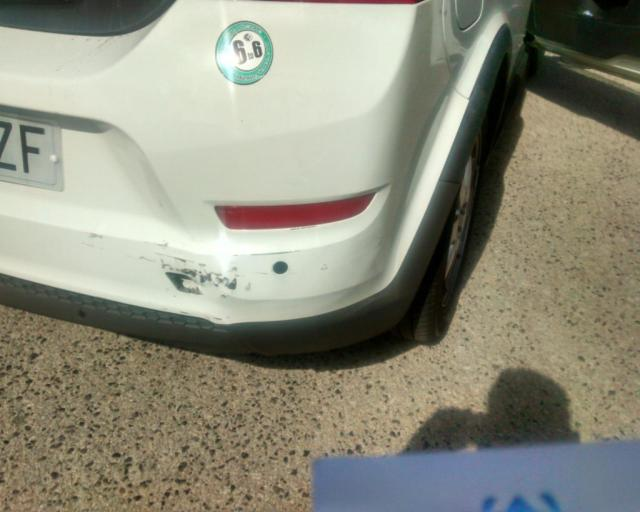scratch: (154, 240, 239, 299), (156, 306, 235, 324), (232, 247, 305, 258), (78, 228, 107, 251), (123, 252, 156, 265), (288, 224, 321, 232), (240, 280, 258, 294), (253, 270, 271, 277)
